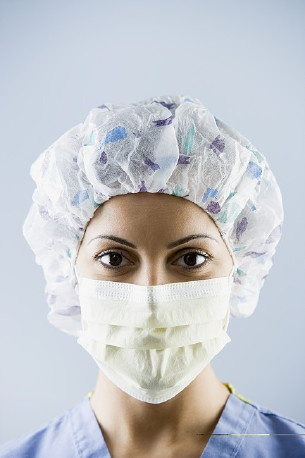Mask: (64, 218, 251, 404)
